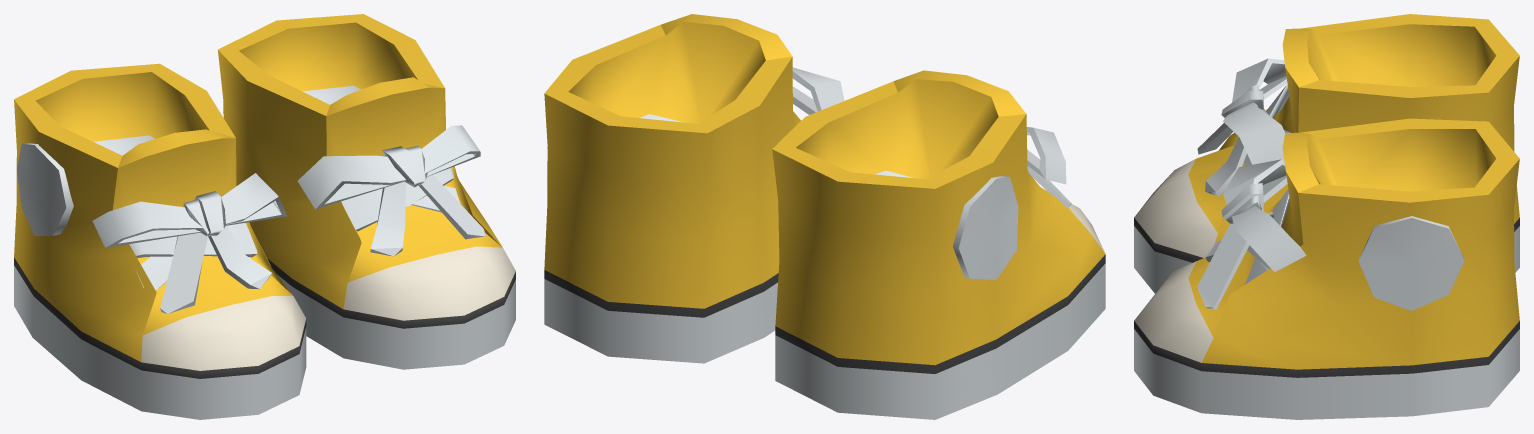
File: Shoes_3.fbx
The picture shows the model from 3 angles, left to right: view 1: azimuth 30°, elevation 25°; view 2: azimuth 150°, elevation 25°; view 3: azimuth 270°, elevation 25°; orthographic projection. The views are drawn at different scales.
Visible parts, largest first — view 1: Shoes_3; view 2: Shoes_3; view 3: Shoes_3.
Boxes of the visible parts, x1,y1,x2,y2 form: Shoes_3: (14, 14, 515, 419); Shoes_3: (544, 14, 1105, 419); Shoes_3: (1134, 14, 1519, 419).
Bounding box in the file's own units: 39.4 × 20.66 × 31.94.
